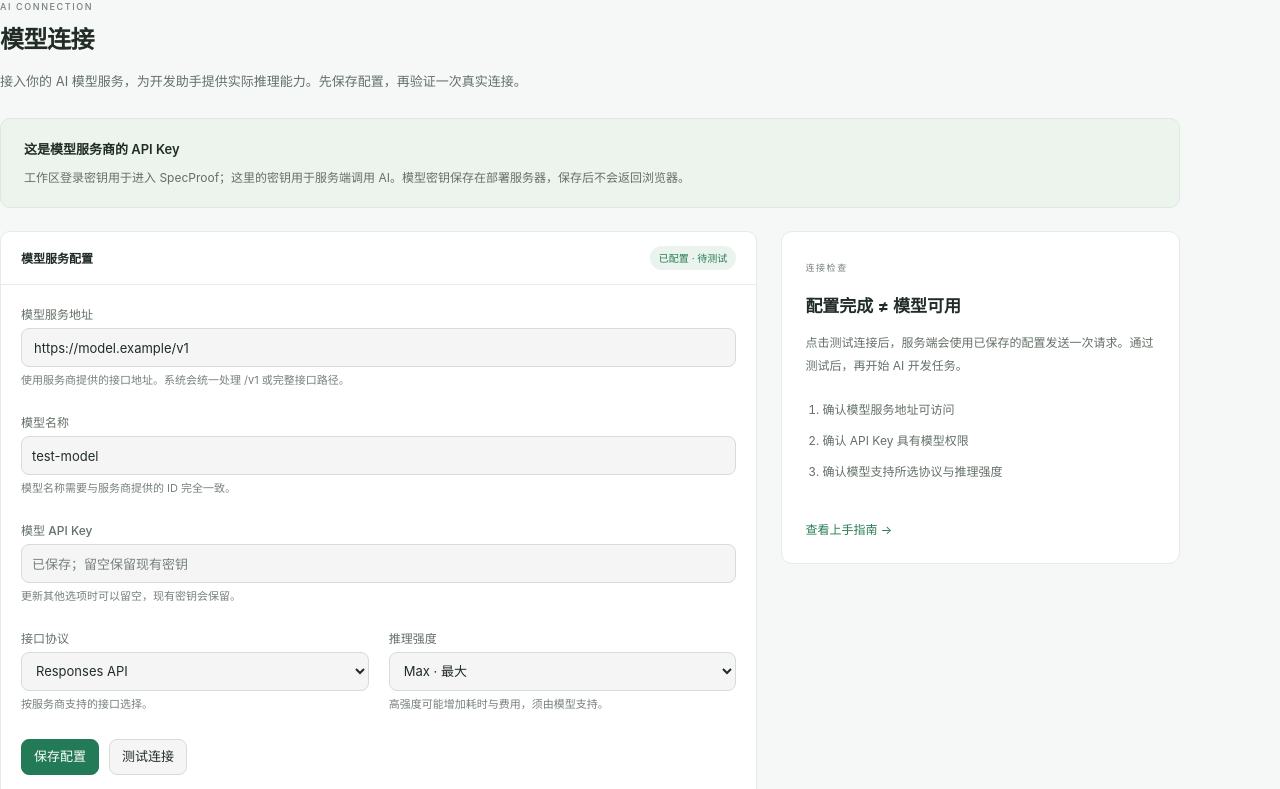
Test: model connection settings › reports a real test result separately from saving configuration
The image size is (1280, 789).
Expected: the field labelled "模型名称" is shown, [21,436,736,475]
What coordinates should you click on to do the following:
click the button "测试连接"
I would click on:
 (148, 757)
Its box is [109,739,187,775].
(page scrolled)
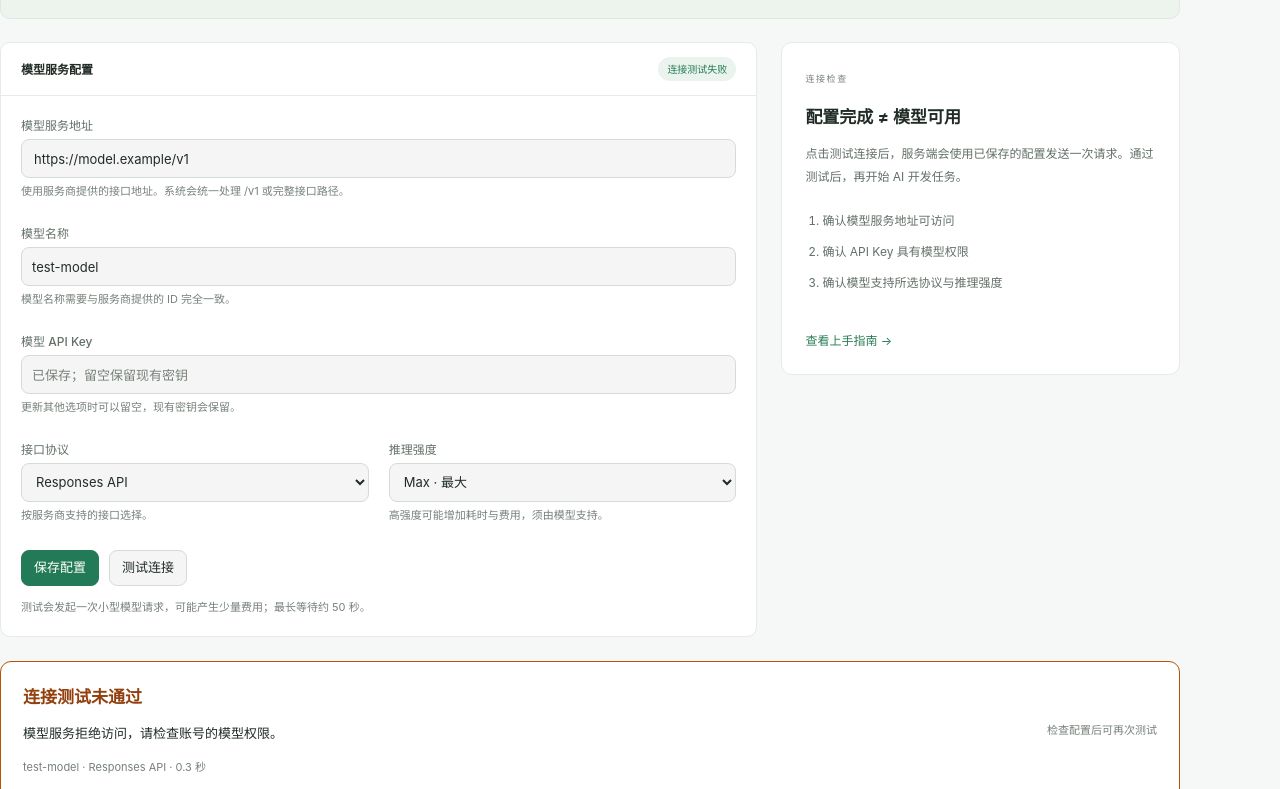
Now the heading "连接测试未通过" is shown, box [23,687,142,707]
Now the text "模型服务拒绝访问，请检查账号的模型权限。" is shown, box [23,722,283,745]
